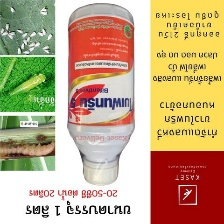insecticide: (66, 1, 137, 189)
